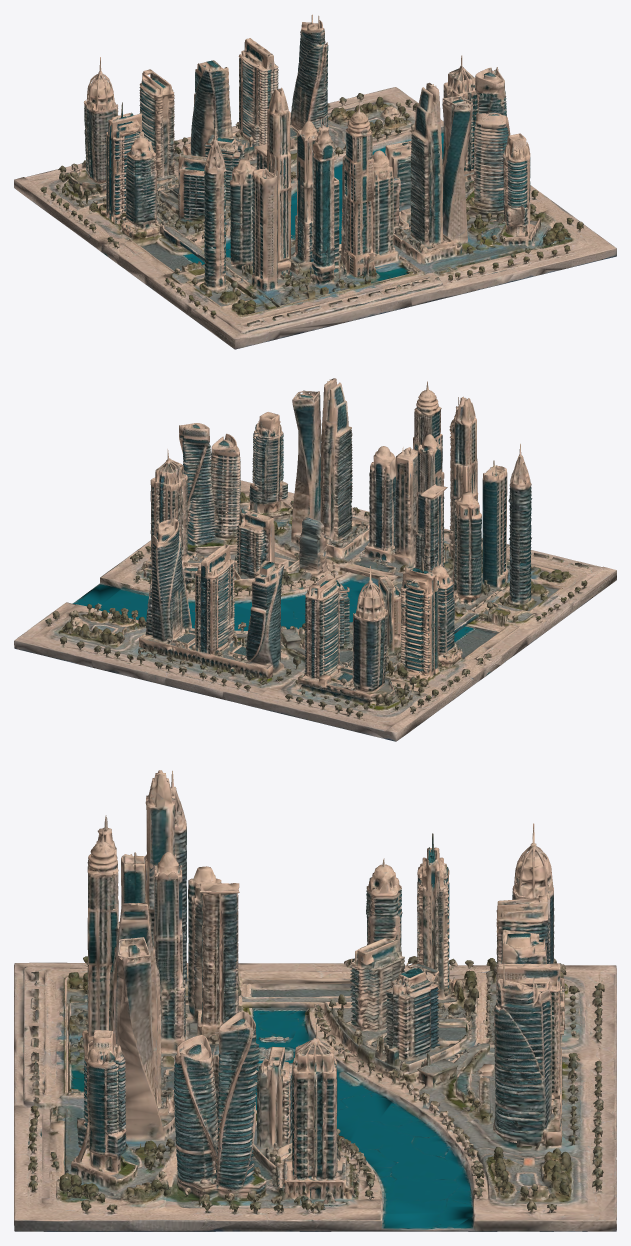
The model's file is dubai_business_bay_sand.glb.
3 renders of one model, top to bottom at view 1: azimuth 30°, elevation 25°; view 2: azimuth 150°, elevation 25°; view 3: azimuth 270°, elevation 25°, orthographic. The views are drawn at different scales.
Size of the model in its own units: 1.9 by 0.9414 by 1.9.
Materials: 1 (1 with a texture image).
